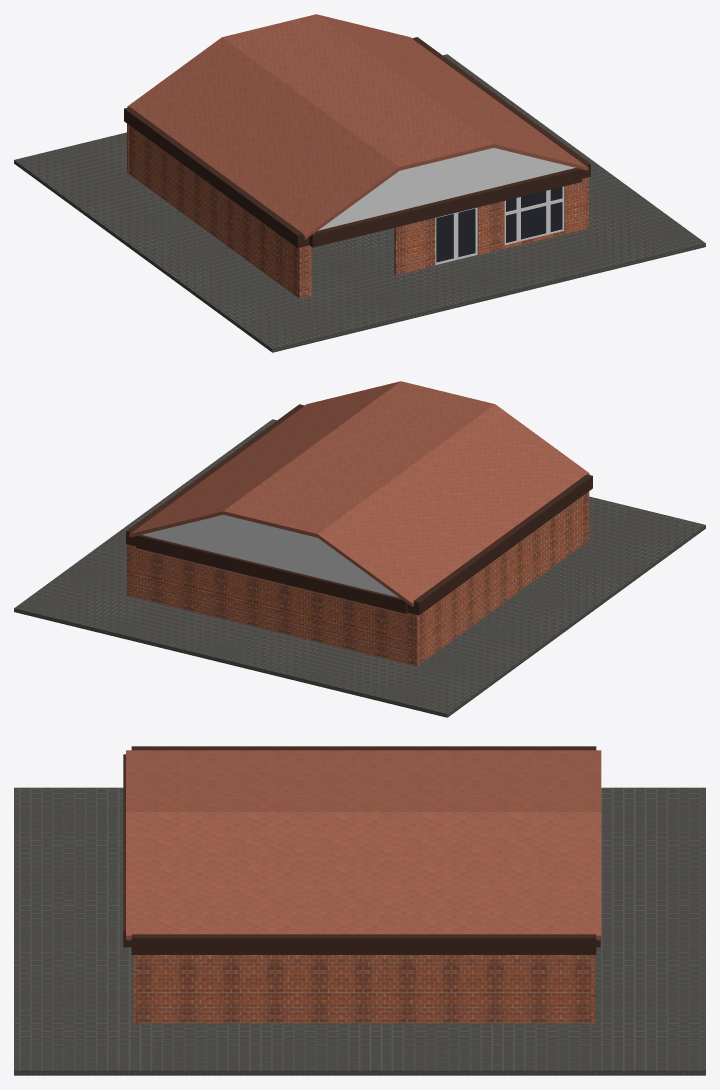
File: garage.fbx
3 renders of one model, top to bottom at view 1: azimuth 30°, elevation 25°; view 2: azimuth 150°, elevation 25°; view 3: azimuth 270°, elevation 25°, orthographic. The views are drawn at different scales.
Visible parts, largest first — view 1: Rooftop, plane, walls, support pillar, trangular roof, Plane.002, Plane.001; view 2: Rooftop, plane, walls, support pillar, trangular roof; view 3: plane, Rooftop, walls, support pillar.
Boxes of the visible parts, x1,y1,x2,y2 form: Rooftop: [127, 14, 588, 239]; plane: [14, 54, 705, 352]; walls: [127, 123, 588, 298]; support pillar: [124, 37, 590, 248]; trangular roof: [318, 148, 575, 230]; Plane.002: [504, 186, 564, 244]; Plane.001: [435, 207, 477, 264]; Rooftop: [129, 381, 589, 606]; plane: [14, 419, 705, 717]; walls: [127, 491, 589, 666]; support pillar: [126, 404, 592, 615]; trangular roof: [141, 515, 398, 597]; plane: [14, 787, 705, 1075]; Rooftop: [126, 750, 601, 940]; walls: [133, 955, 595, 1023]; support pillar: [123, 746, 600, 954].
Size of the model in its own units: 1458 by 366 by 1506.
Materials: 14 (5 with a texture image).
